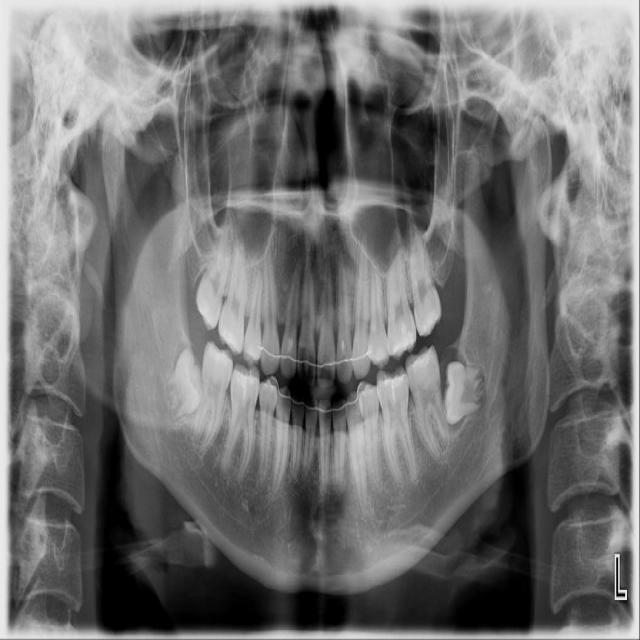impacted tooth: (162, 350, 202, 421), (444, 361, 488, 425)
